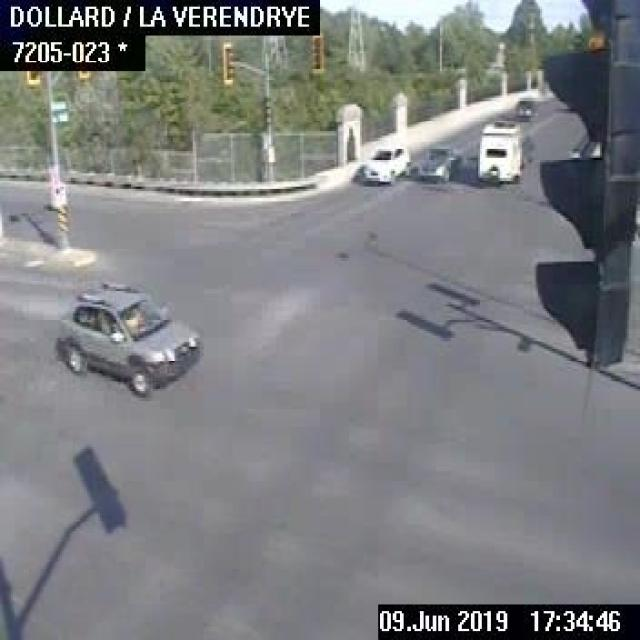vehicle: (55, 278, 200, 393), (473, 120, 532, 182), (358, 144, 409, 184), (414, 140, 458, 177), (515, 96, 537, 117)
